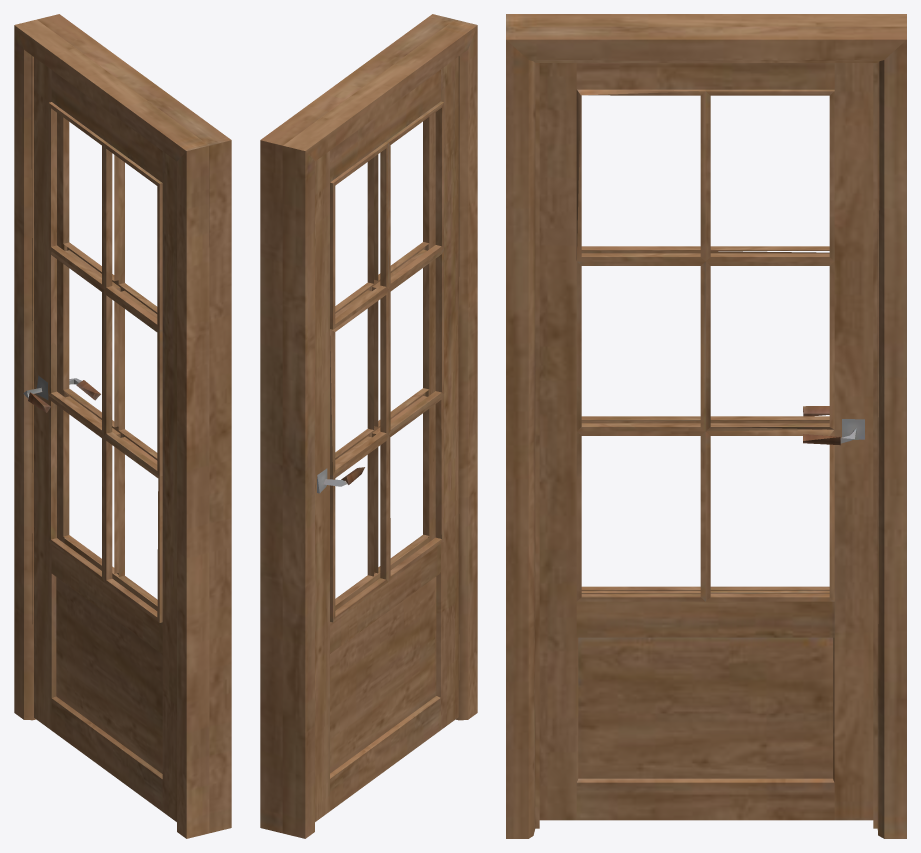
The model's file is Door0024.obj.
3 renders of one model, left to right at view 1: azimuth 30°, elevation 25°; view 2: azimuth 150°, elevation 25°; view 3: azimuth 270°, elevation 25°, orthographic. The views are drawn at different scales.
Bounding box in the file's own units: 0.195 × 2.12 × 0.964.
1 material, 1 textured.
